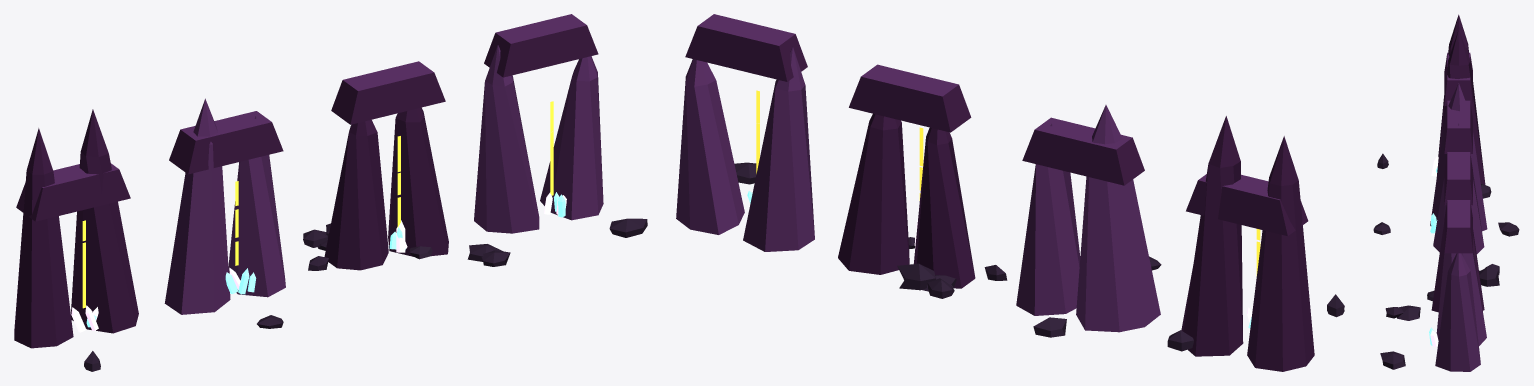
File: W4_Mid_RockPillars.fbx
3 renders of one model, left to right at view 1: azimuth 30°, elevation 25°; view 2: azimuth 150°, elevation 25°; view 3: azimuth 270°, elevation 25°, orthographic. The views are drawn at different scales.
Visible parts, largest first — view 1: W4_Mid_RockPillars; view 2: W4_Mid_RockPillars; view 3: W4_Mid_RockPillars.
Boxes of the visible parts, x1,y1,x2,y2 form: W4_Mid_RockPillars: (14,14,647,371); W4_Mid_RockPillars: (676,14,1344,371); W4_Mid_RockPillars: (1373,14,1519,371).
Bounding box in the file's own units: 123 × 42.94 × 35.68.
